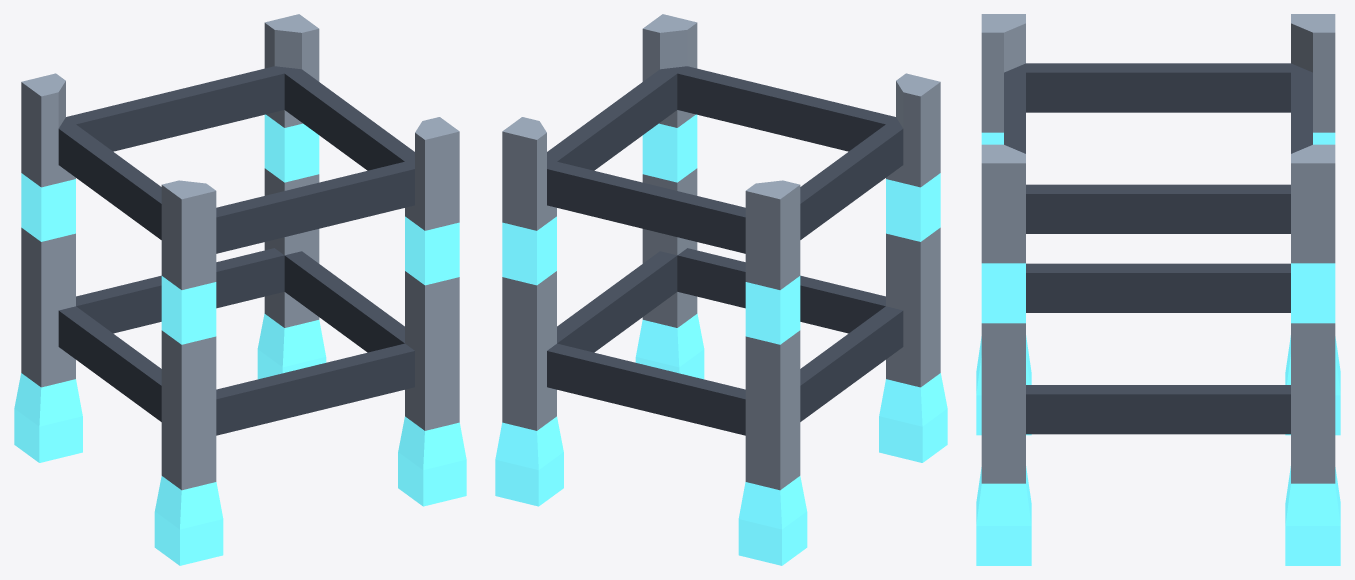
Rendered from supports_high.glb.
The picture shows the model from 3 angles, left to right: view 1: azimuth 30°, elevation 25°; view 2: azimuth 150°, elevation 25°; view 3: azimuth 270°, elevation 25°; orthographic projection. The views are drawn at different scales.
Parts seen in each view (by area): view 1: supports_high; view 2: supports_high; view 3: supports_high.
Boxes of the visible parts, x1,y1,x2,y2 form: supports_high: (14, 14, 466, 565); supports_high: (495, 14, 947, 565); supports_high: (976, 14, 1340, 565).
Size of the model in its own units: 0.825 by 1 by 0.825.
